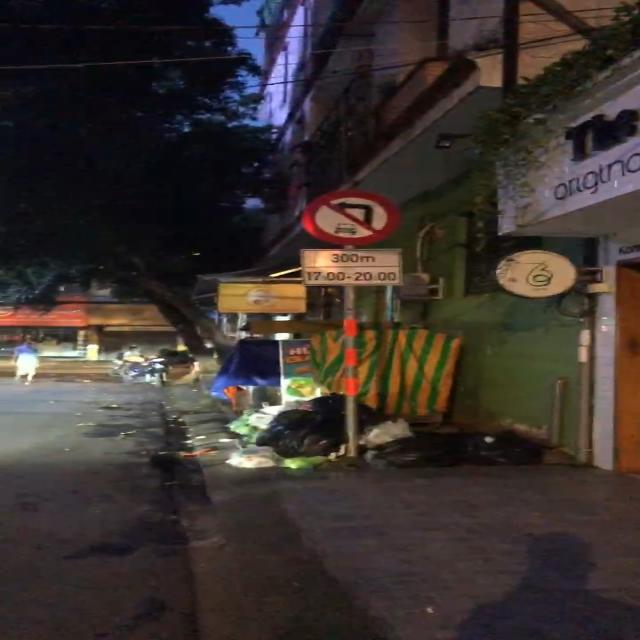Bien bao cam xe o to re trai: (294, 184, 398, 248)
